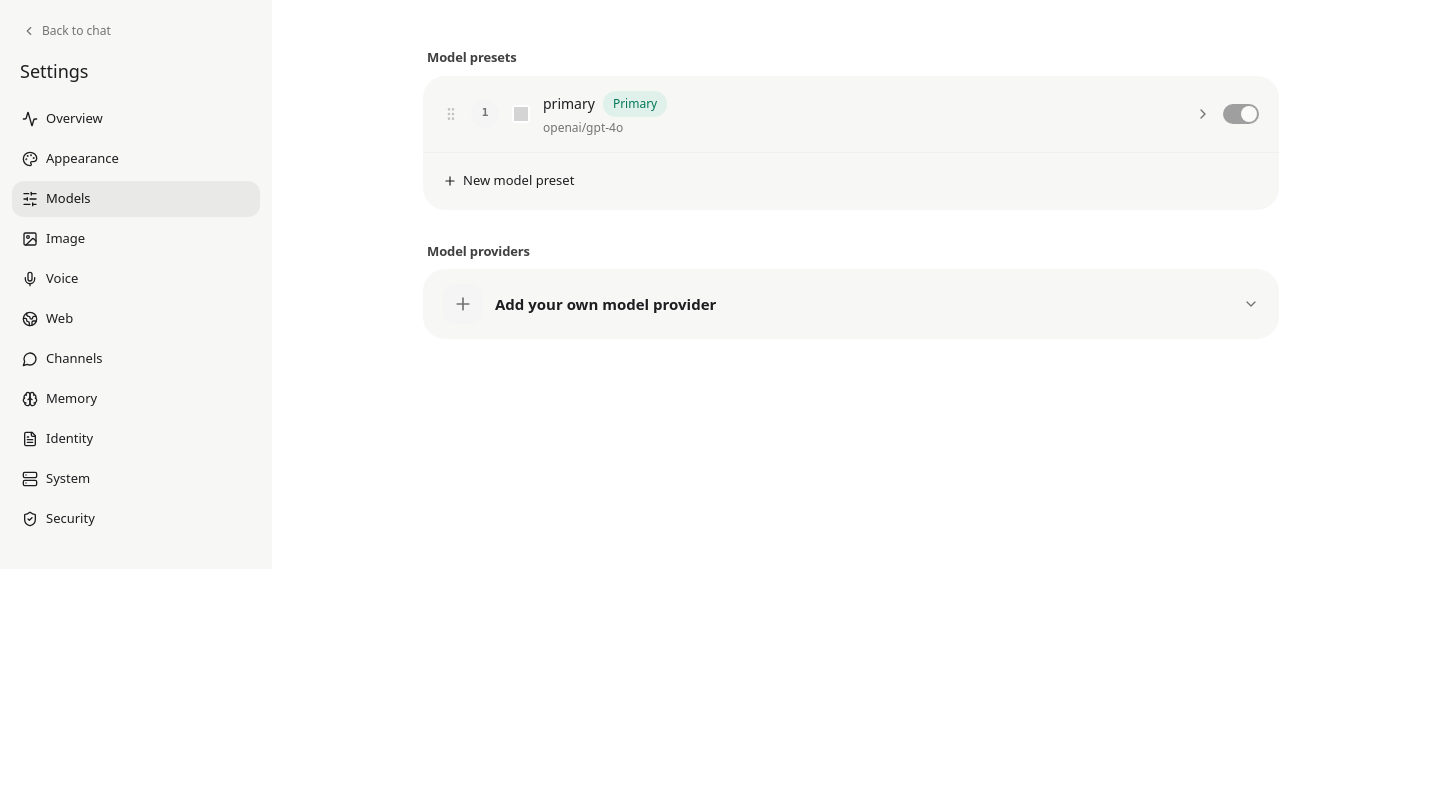
Settings models › maps a server-side name conflict back to the preset name field
Click the button "1 primary Primary openai/gpt-4o": {"x": 569, "y": 104} [471,90,1211,136]
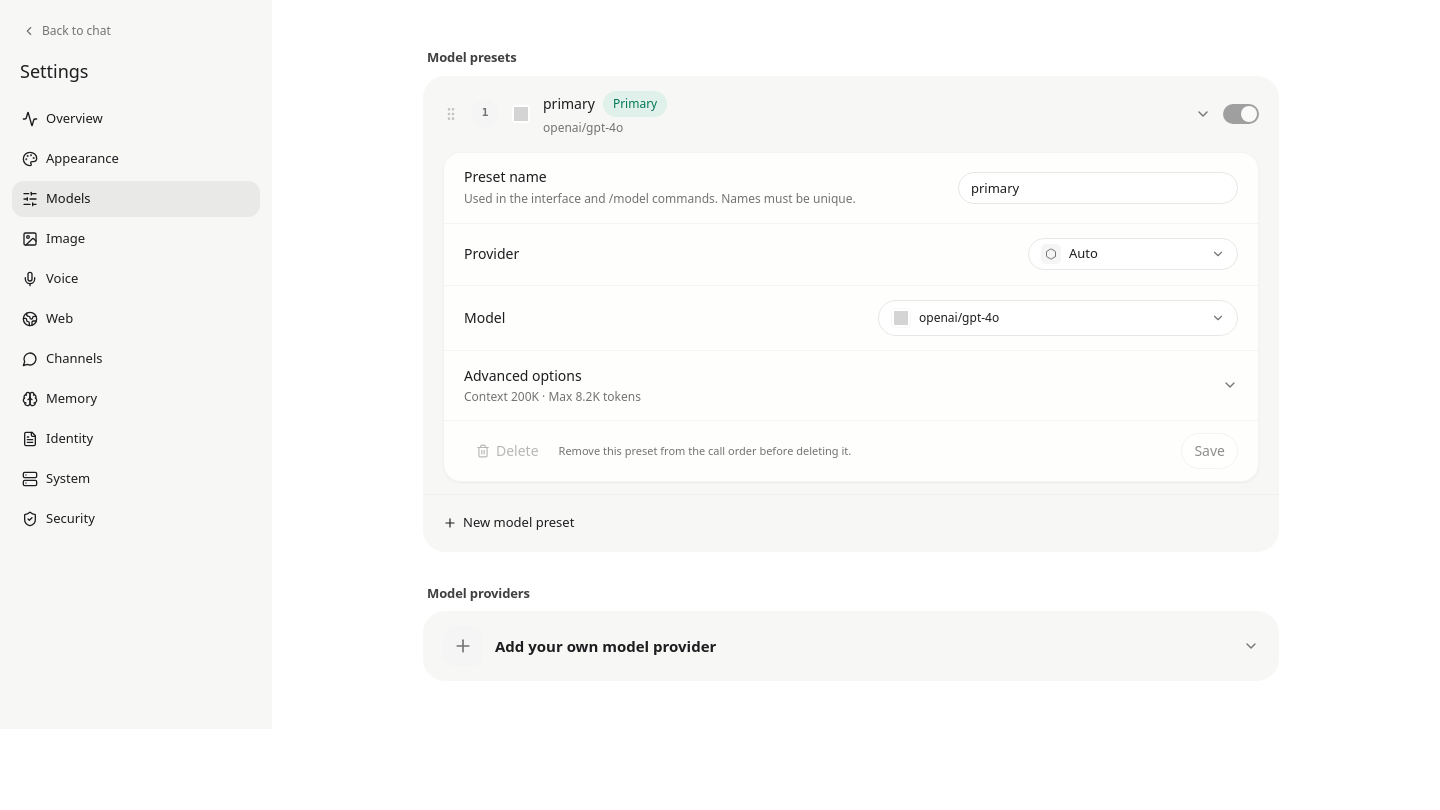
Replace the text in the field named "Preset name" with "Codex": {"x": 1098, "y": 188} [958,172,1238,204]
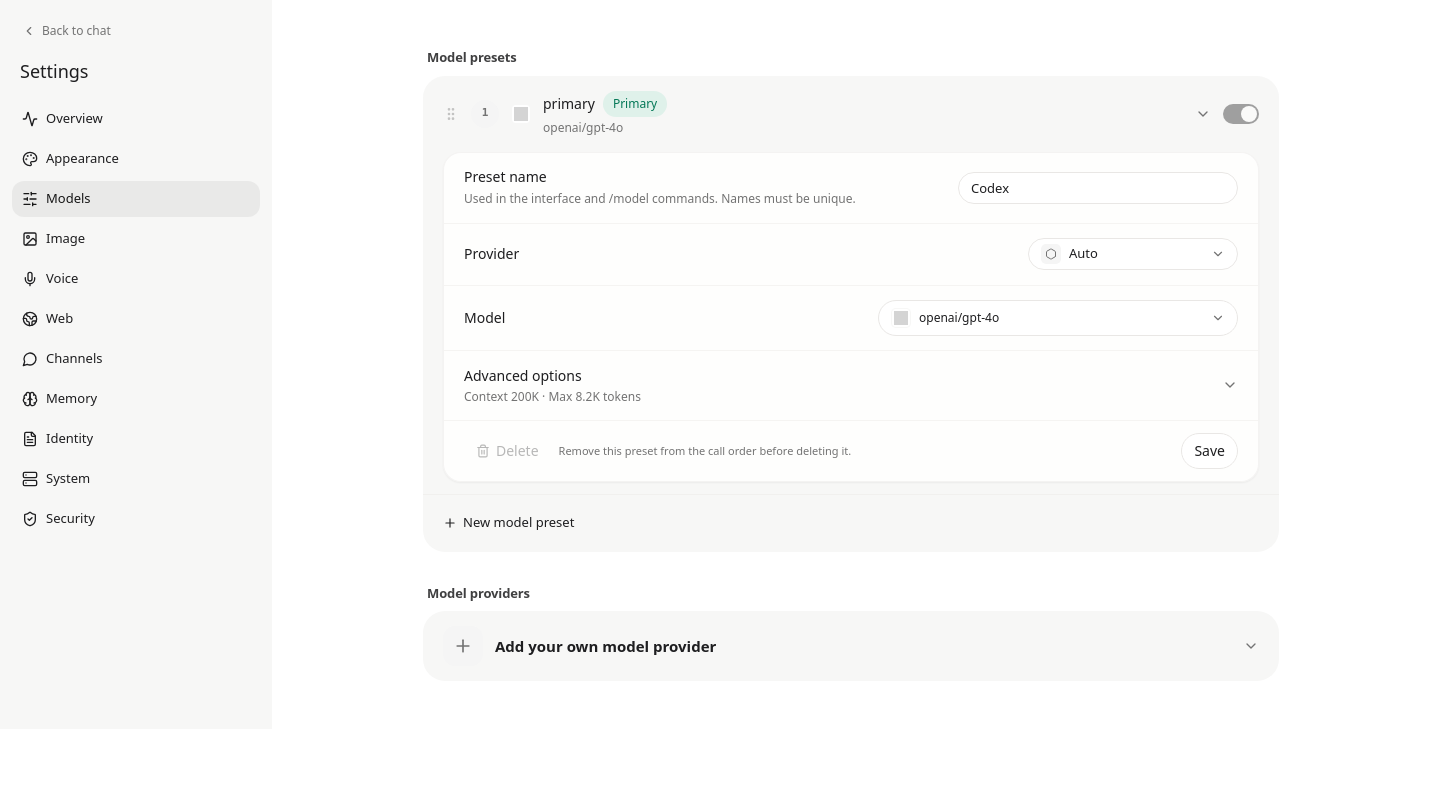
Click the button "Save": {"x": 1210, "y": 450} [1181,432,1238,468]
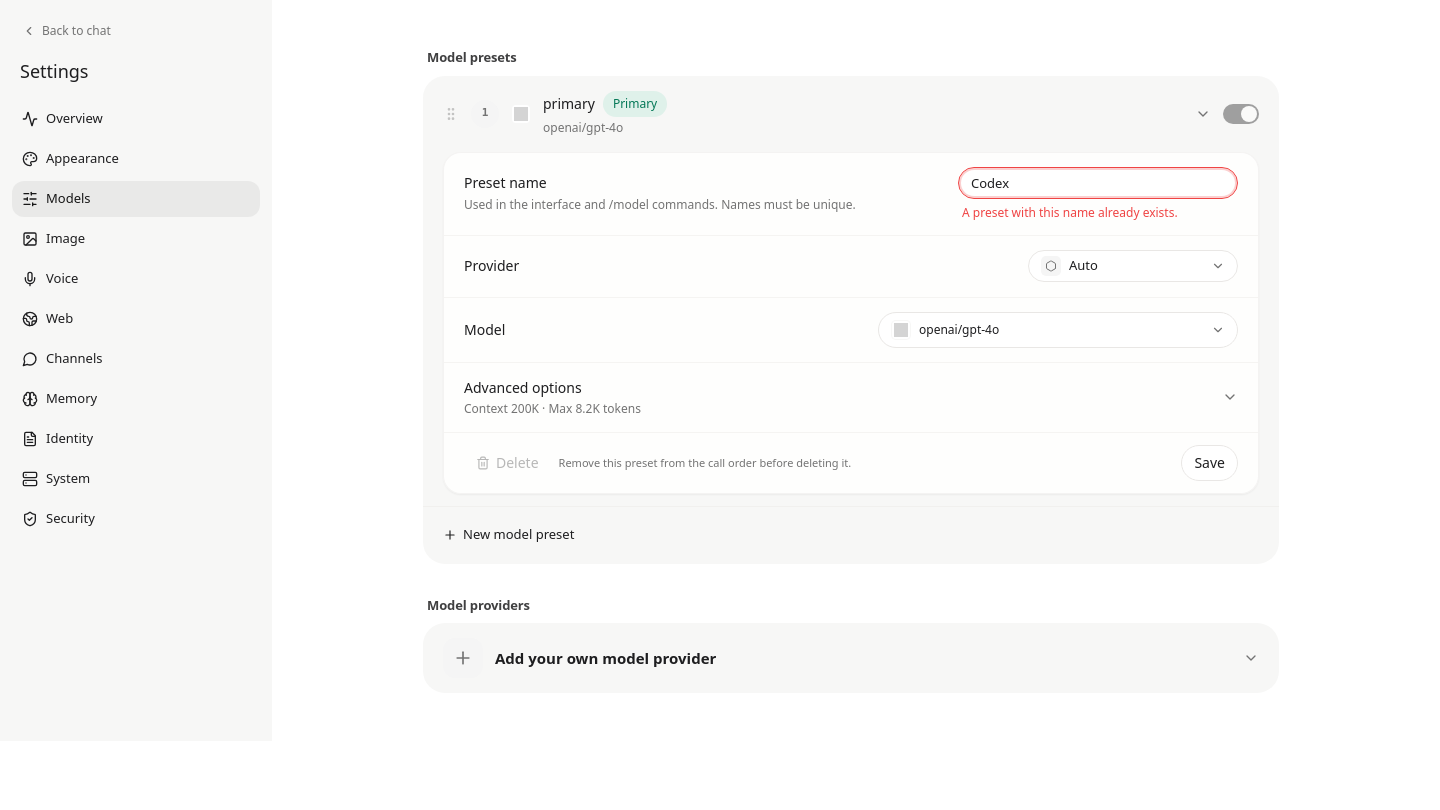
Now the message reads "A preset with this name already exists.", box [962,204,1178,220]
